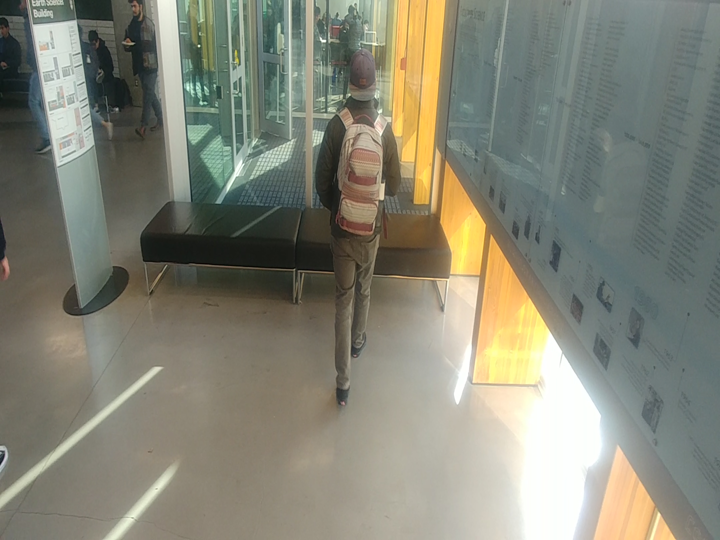face: (336, 47, 381, 111), (123, 0, 154, 24), (0, 10, 13, 43), (87, 26, 101, 54)
human: (312, 43, 407, 408), (120, 0, 165, 142), (0, 12, 23, 87)
